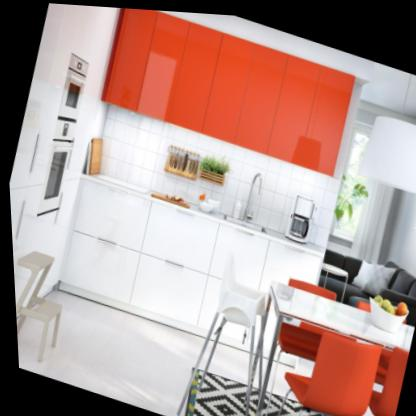Chair: (253, 309, 385, 416)
